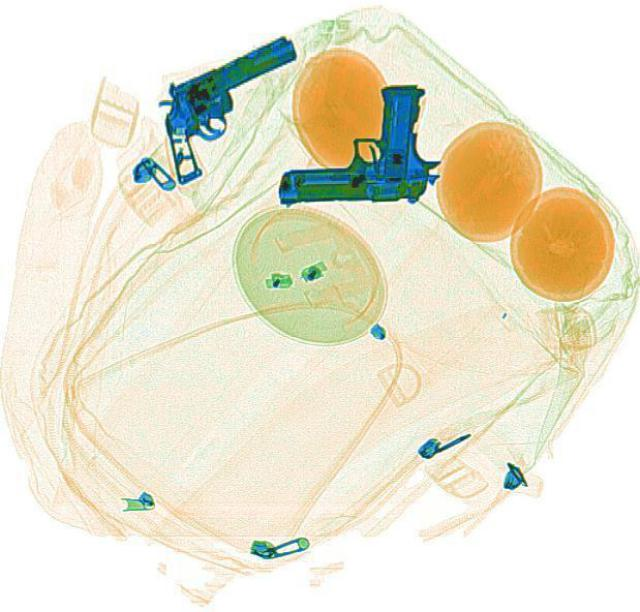Gun: (130, 31, 336, 184), (276, 82, 440, 205)
